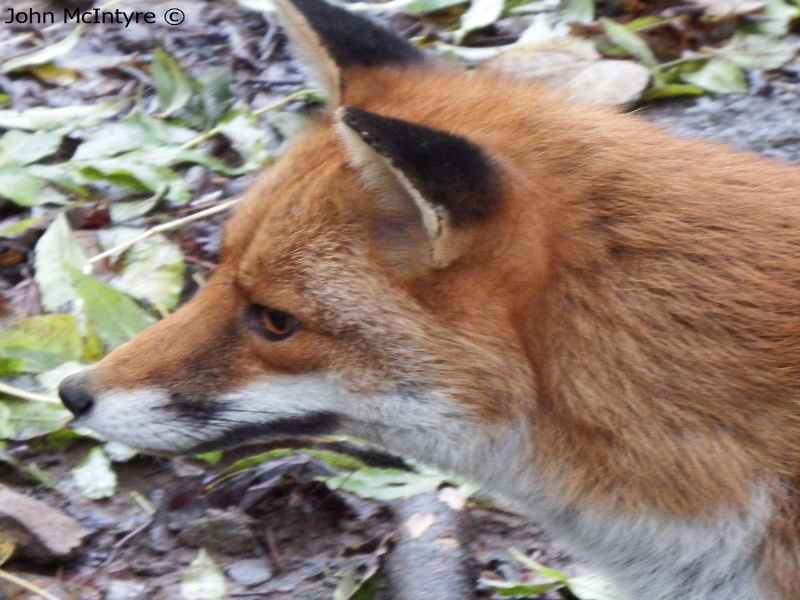fox: (58, 9, 800, 589)
